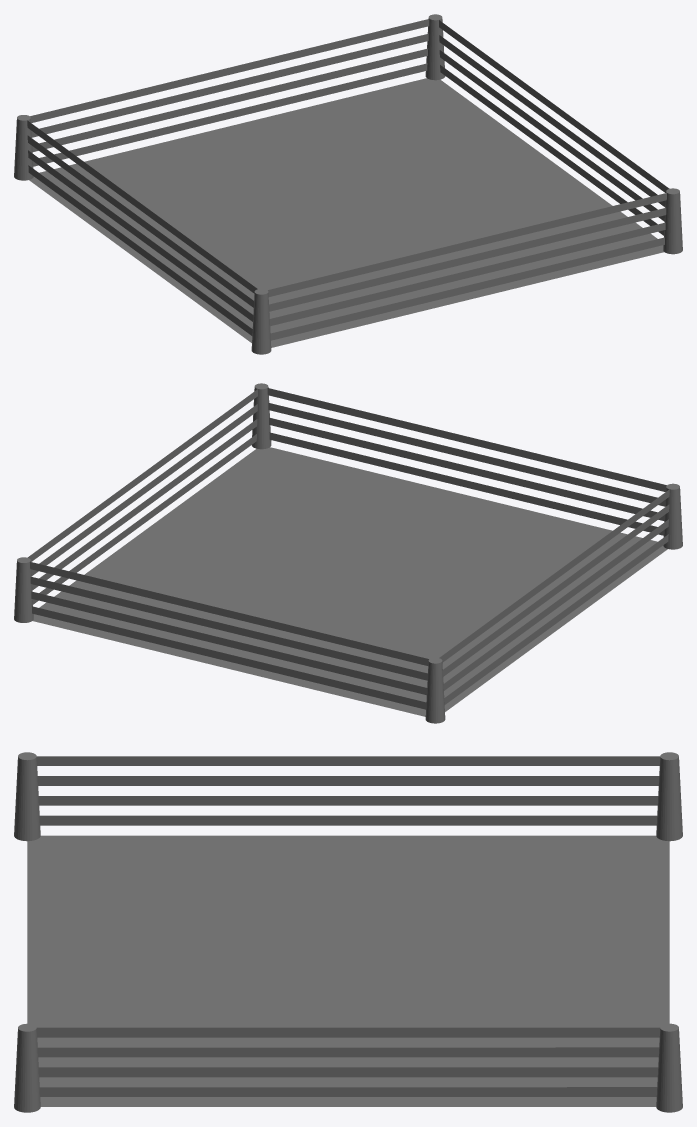
The model's file is BoxingRing.glb.
The picture shows the model from 3 angles, top to bottom: view 1: azimuth 30°, elevation 25°; view 2: azimuth 150°, elevation 25°; view 3: azimuth 270°, elevation 25°; orthographic projection. The views are drawn at different scales.
Parts seen in each view (by area): view 1: BoxingRing.001; view 2: BoxingRing.001; view 3: BoxingRing.001.
Part boxes in pixels (bbox=[...]): BoxingRing.001: bbox=[14, 14, 682, 354]; BoxingRing.001: bbox=[14, 383, 682, 723]; BoxingRing.001: bbox=[14, 752, 682, 1112].
Bounding box in the file's own units: 25 × 3.28 × 25.
1 material, 1 textured.
